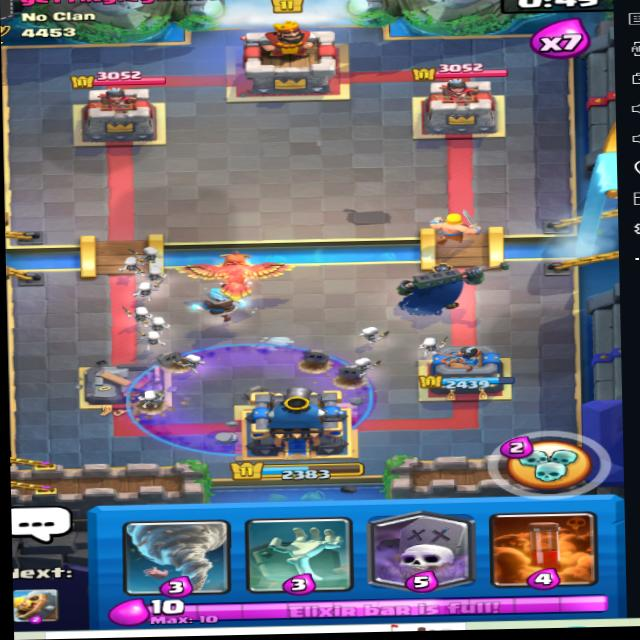Royalrecruits: (322, 192, 404, 236)
